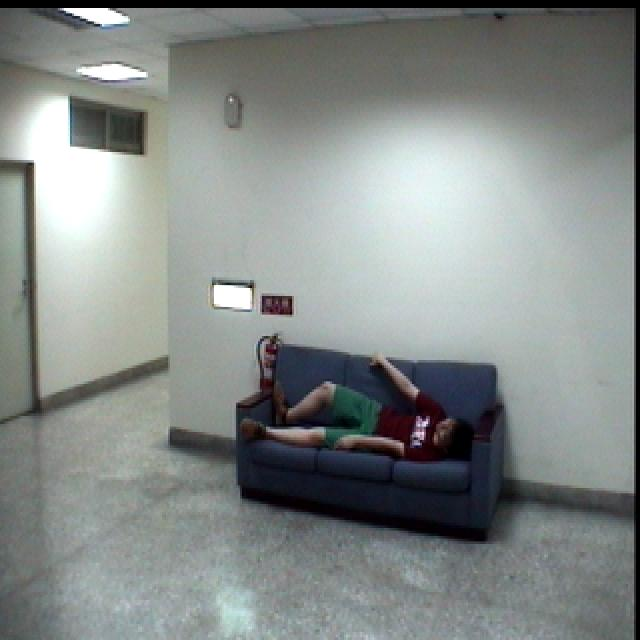lie: (233, 343, 469, 462)
